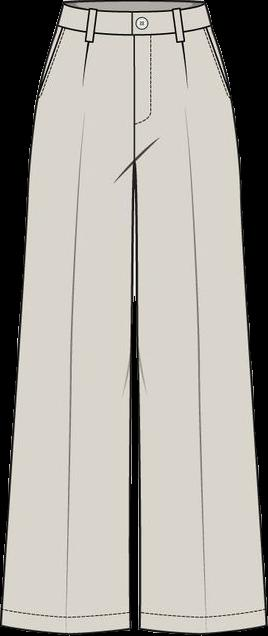Hemline: (0, 617, 131, 635), (138, 617, 267, 635)
Pantleg: (131, 0, 264, 631), (2, 1, 133, 632)
Waistline: (54, 21, 213, 39), (62, 0, 208, 15)
